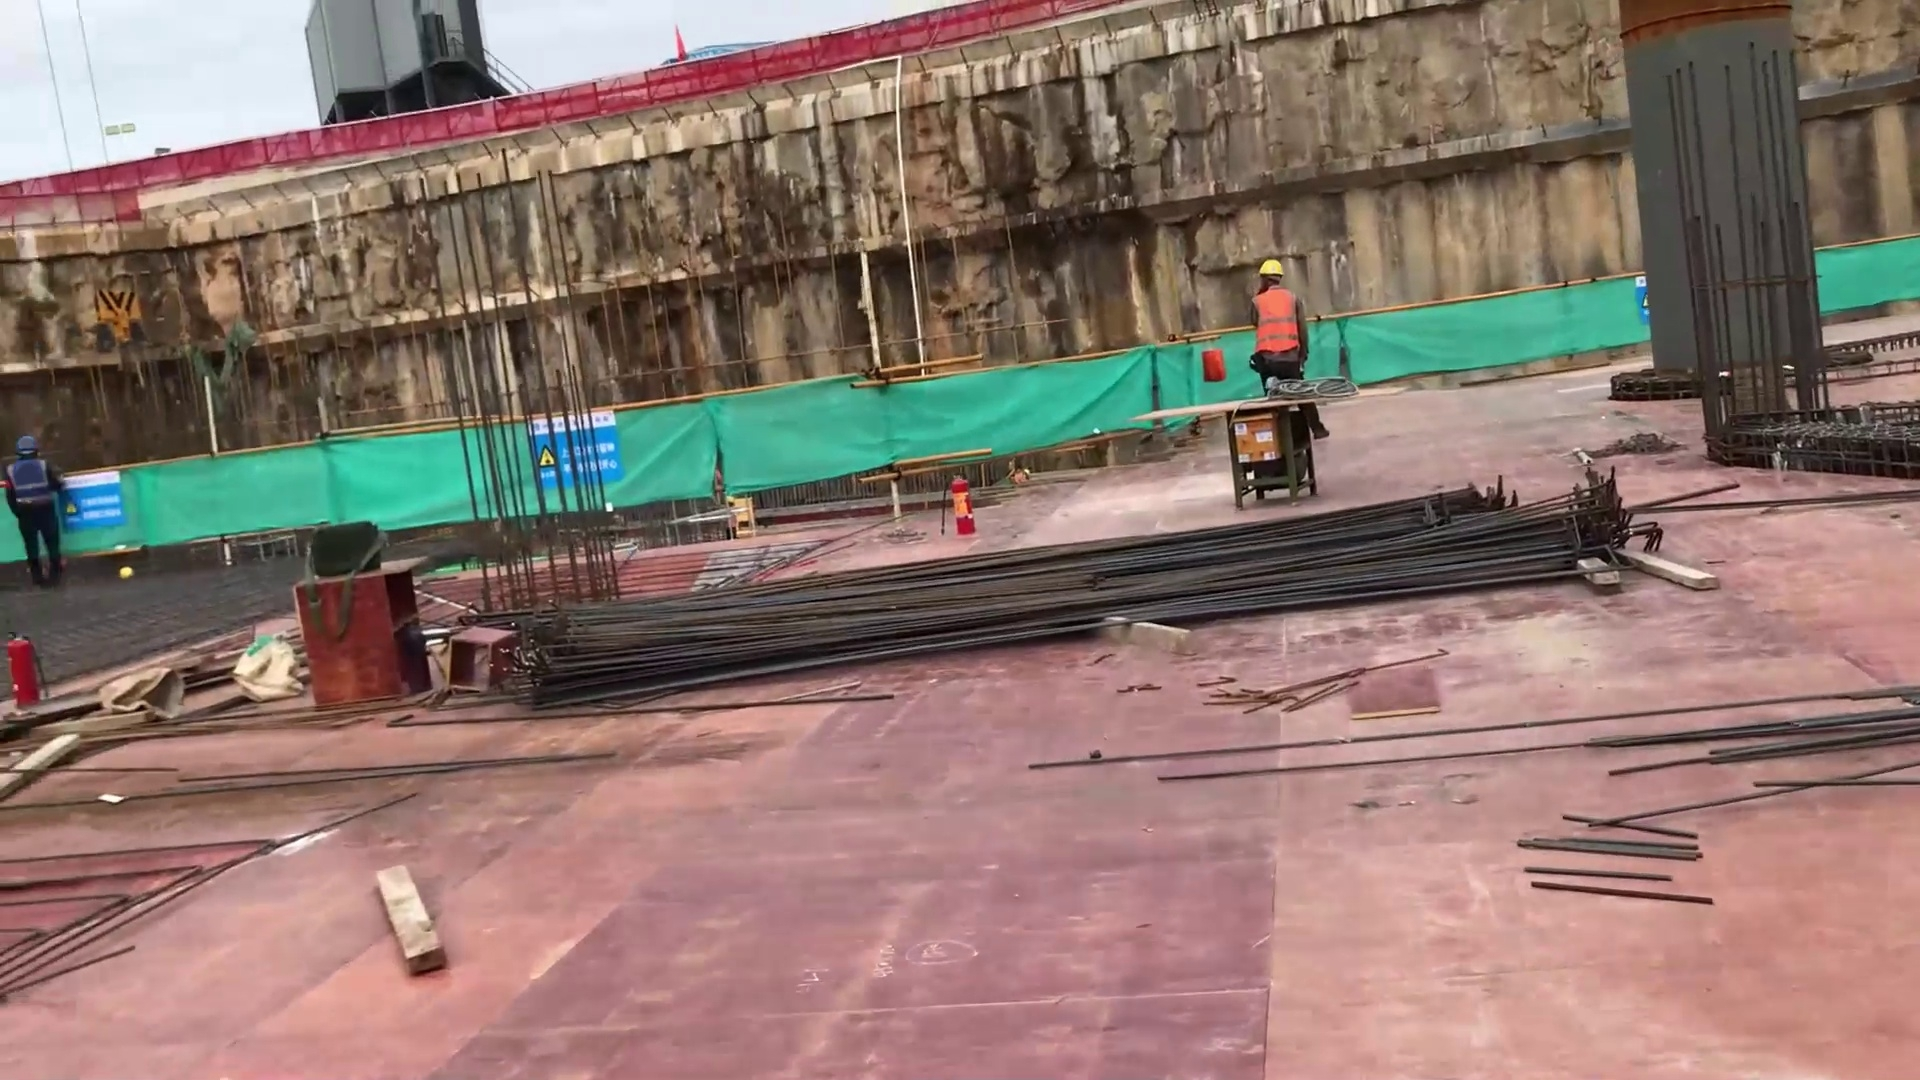fence: (514, 1, 999, 139), (1, 126, 324, 204)
helmet: (1257, 259, 1285, 283), (14, 434, 40, 456)
hook: (92, 283, 151, 356)
person: (1245, 258, 1330, 442), (4, 434, 64, 594)
rebar: (503, 470, 1628, 716)
slogan: (528, 404, 622, 491), (58, 465, 126, 532), (1633, 269, 1649, 333)
vest: (1249, 284, 1302, 355), (5, 458, 54, 512)
